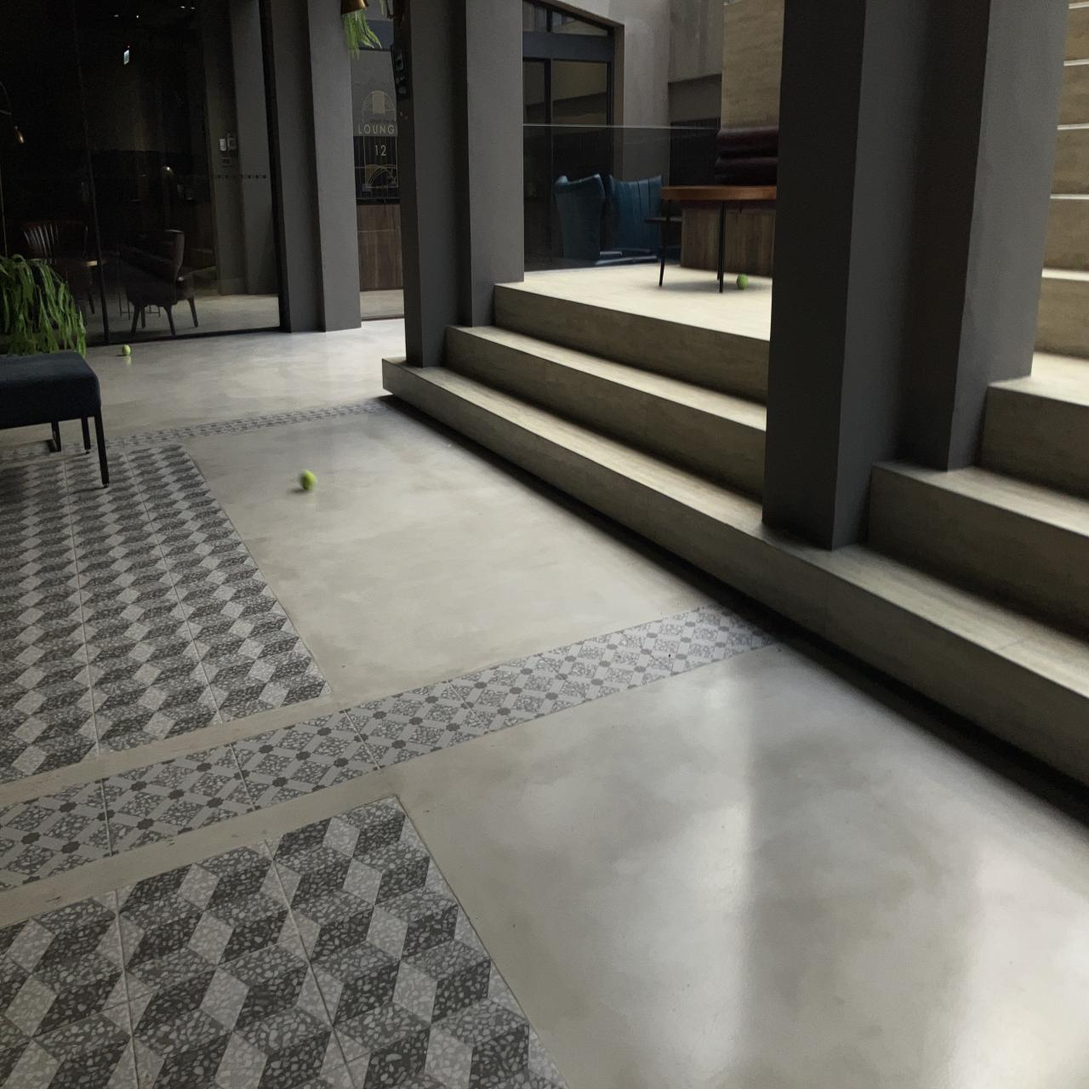tennisball: (299, 470, 316, 490), (737, 275, 749, 289), (122, 345, 130, 356)
